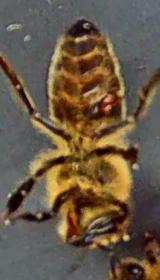varroa_mite: (82, 85, 130, 118)
